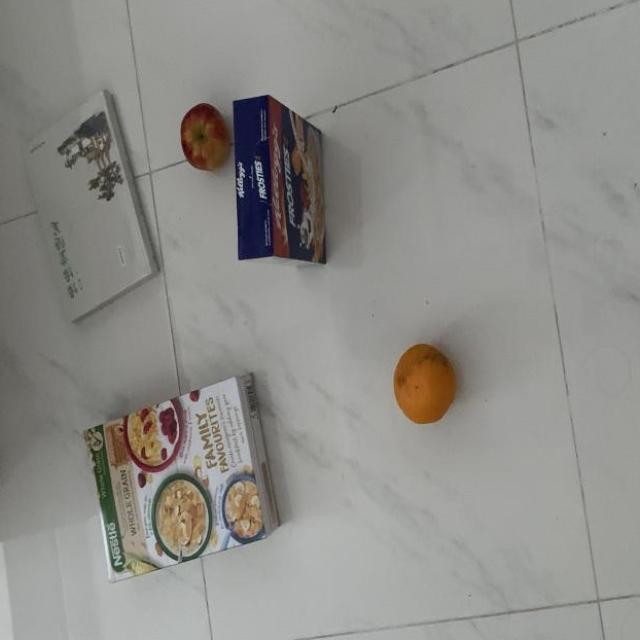Apple: (178, 99, 234, 173)
Book: (20, 91, 164, 331)
Cerealbox: (83, 367, 282, 588), (230, 91, 331, 269)
Orange: (393, 340, 460, 426)
